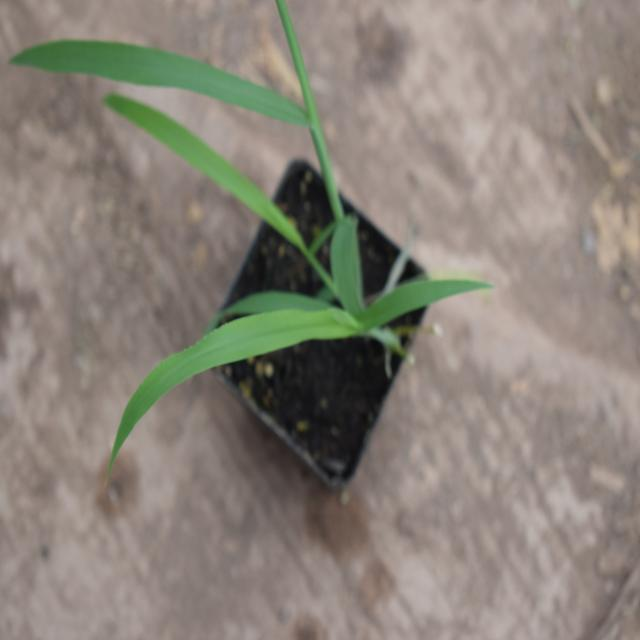crabgrass: (104, 82, 470, 434)
